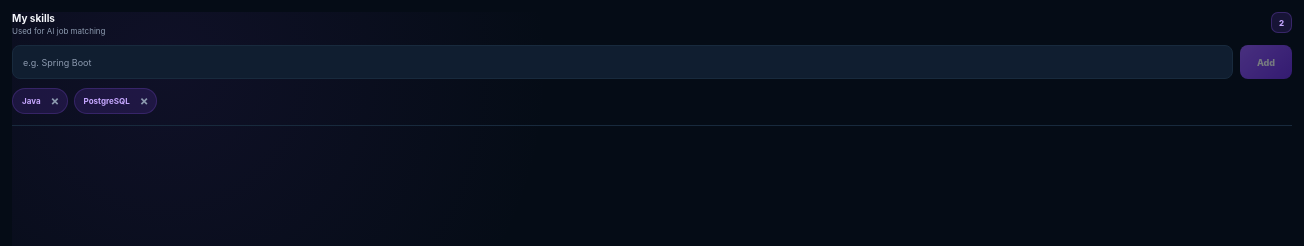
Test case: SkillsManager › deletes one of the current user skills
Click the button named "Remove PostgreSQL".
click(143, 101)  # box [134,92,152,110]
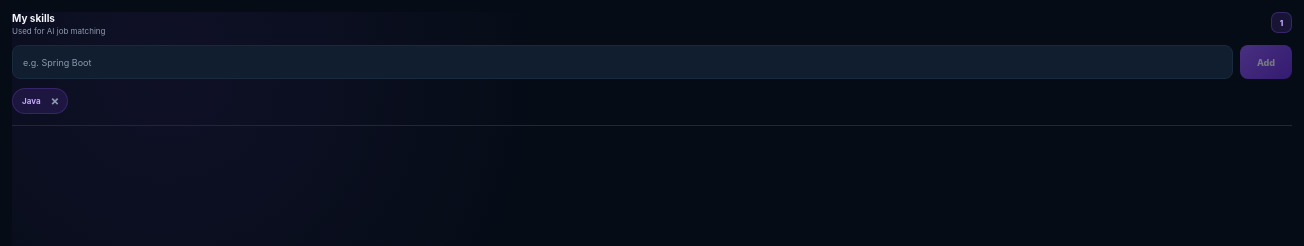
Check: the text "PostgreSQL" is gone
